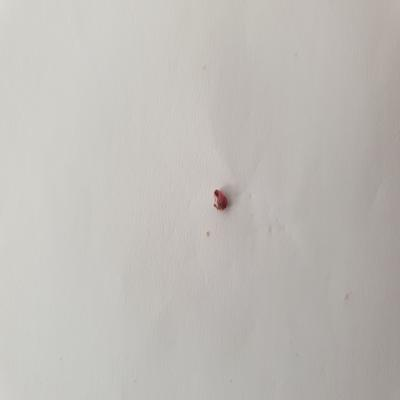plastic: (209, 185, 233, 218)
